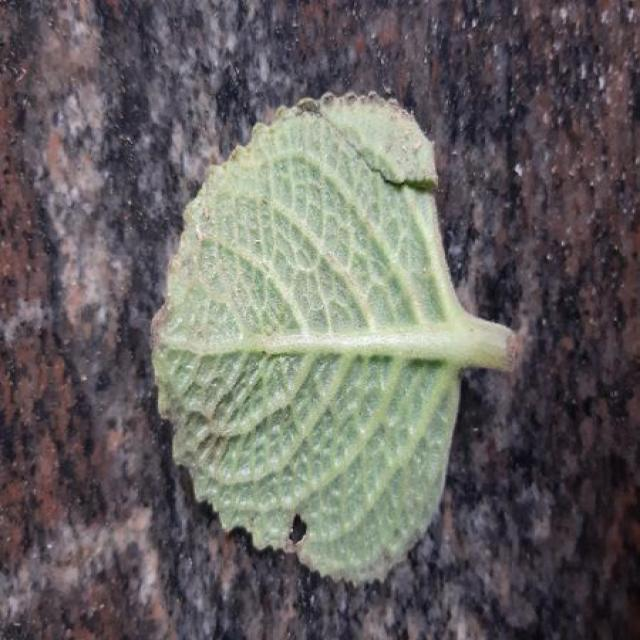doddpathre: (155, 96, 512, 581)
